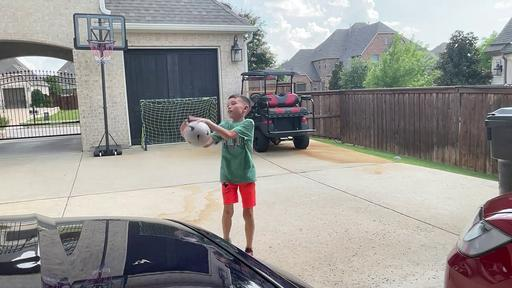ball: (182, 119, 212, 148)
human: (183, 94, 256, 255)
rim: (86, 39, 116, 63)
